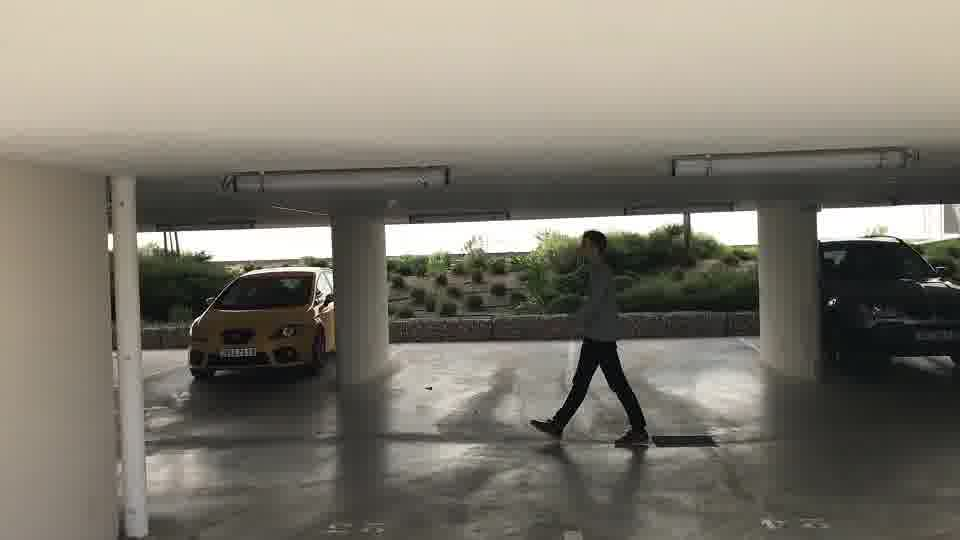jugador: (520, 230, 651, 455)
